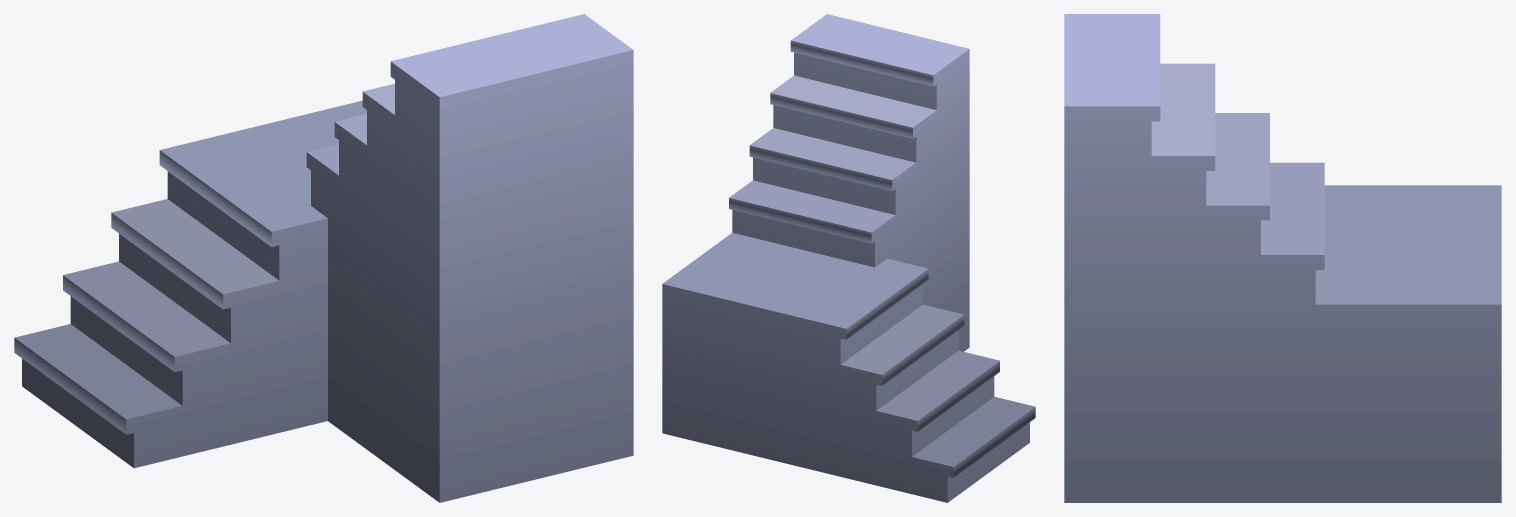
File: stairs-stone-corner.glb
3 views of the same model, side by side, from view 1: azimuth 30°, elevation 25°; view 2: azimuth 150°, elevation 25°; view 3: azimuth 270°, elevation 25° (orthographic). The views are drawn at different scales.
Parts seen in each view (by area): view 1: stairs-stone-corner; view 2: stairs-stone-corner; view 3: stairs-stone-corner.
Part boxes in pixels (box(x1,y1,x2,y2)): stairs-stone-corner: box(14, 14, 633, 502); stairs-stone-corner: box(662, 14, 1035, 502); stairs-stone-corner: box(1064, 14, 1501, 502).
Size of the model in its own units: 1.02 by 1 by 1.
1 material, 1 textured.
